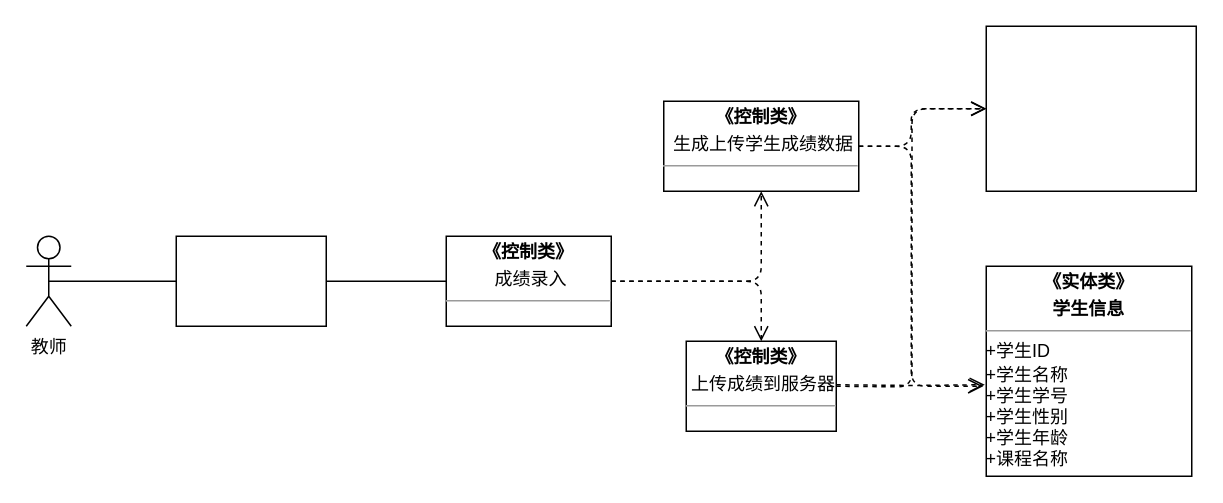
The diagram is 1223 pixels wide and 503 high, and some of its shapes have lost their labels. The shapes that lost their labels are listed below. From the top down, each one's centre as x and y in pixels, then its label:
At point 1090,108: "《实体类》 课程成绩信息 +课程ID +课程名称 +课程成绩".
At point 250,280: "《界面类》 成绩录入教师界面".
